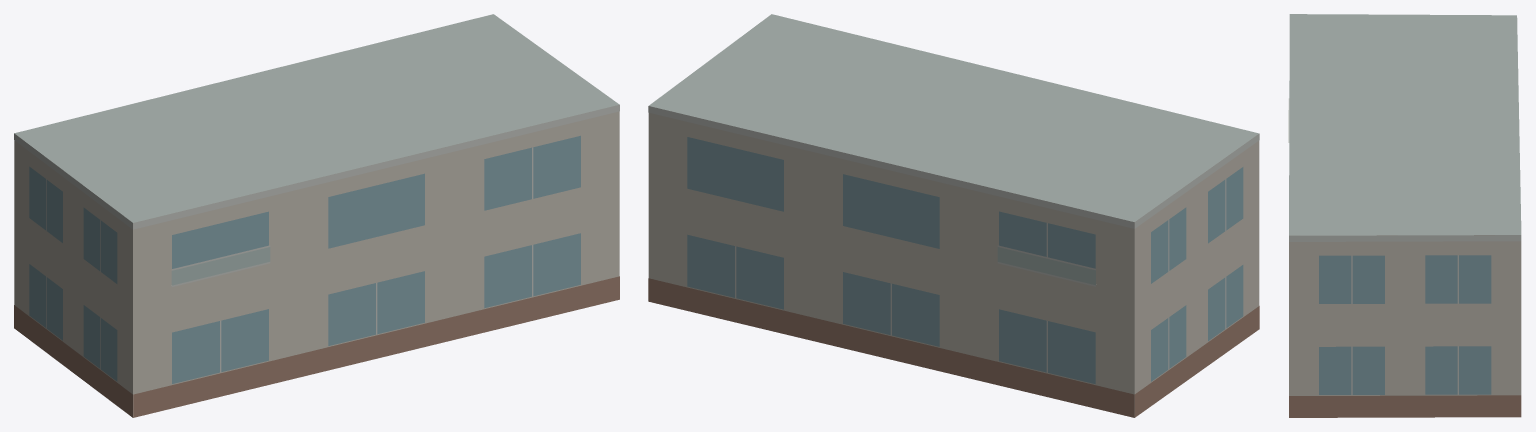
Rendered from survey-upis-32631549.glb.
3 views of the same model, side by side, from view 1: azimuth 30°, elevation 25°; view 2: azimuth 150°, elevation 25°; view 3: azimuth 270°, elevation 25° (orthographic). The views are drawn at different scales.
Parts seen in each view (by area): view 1: survey-upis-32631549.tmp; view 2: survey-upis-32631549.tmp; view 3: survey-upis-32631549.tmp.
Boxes of the visible parts, x1,y1,x2,y2 form: survey-upis-32631549.tmp: (14, 14, 619, 417); survey-upis-32631549.tmp: (648, 14, 1259, 417); survey-upis-32631549.tmp: (1288, 14, 1521, 417).
Bounding box in the file's own units: 18.55 × 7.1 × 8.24.
